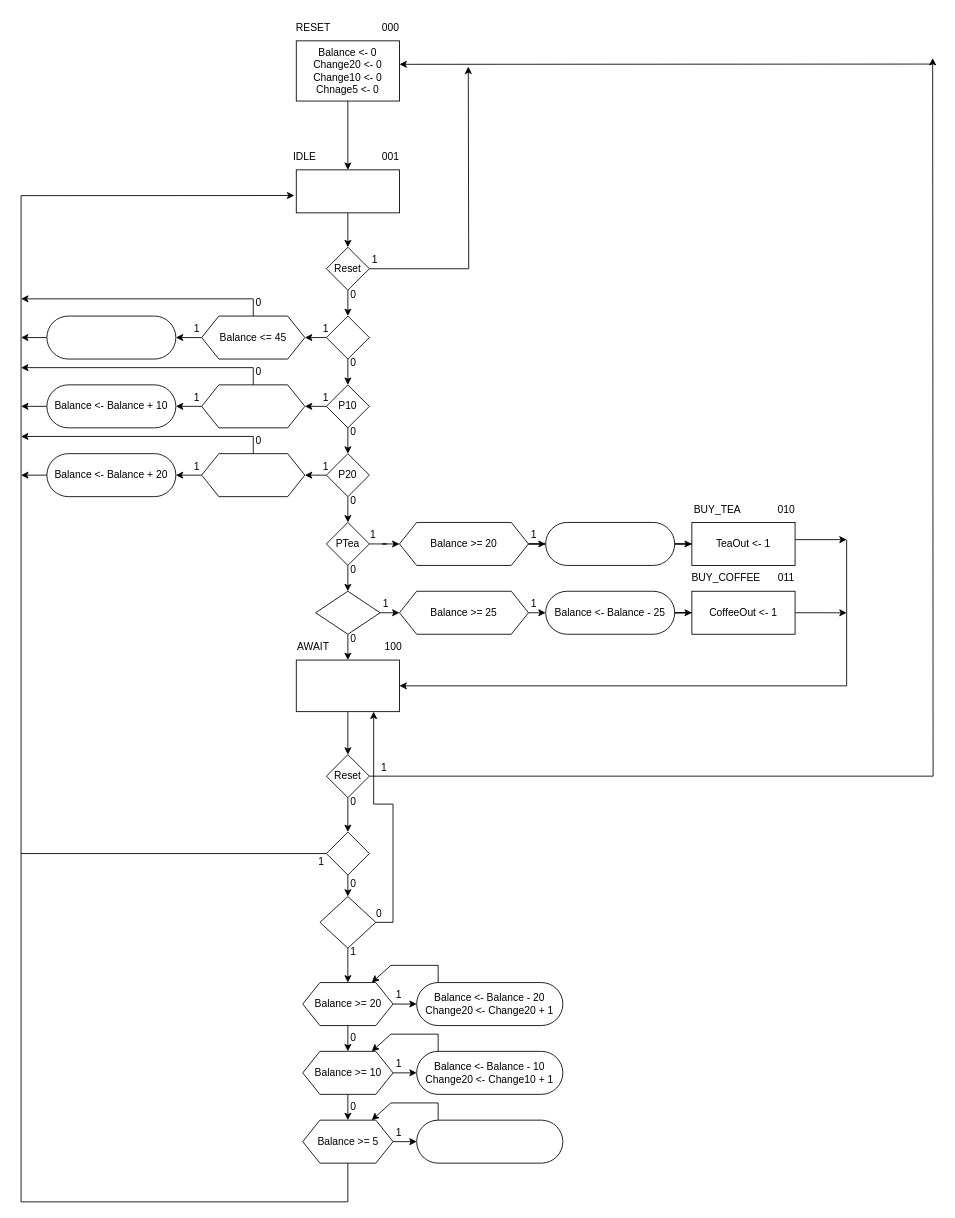
This 955x1218 diagram has some shape labels left out. The centre of each missing label's shape, as x and y in pixels:
Balance <- Balance + 5: point 111,337
Balance <- Balance - 20: point 610,543
Balance <- Balance - 5 Change20 <- Change5 + 1: point 489,1141
Balance <= 30: point 253,475
Balance <= 40: point 253,406
P5: point 347,337
PChange: point 347,922
PCoffee: point 347,612
PNext: point 347,853
TeaOut <- 0 CoffeeOut <- 0: point 347,191
